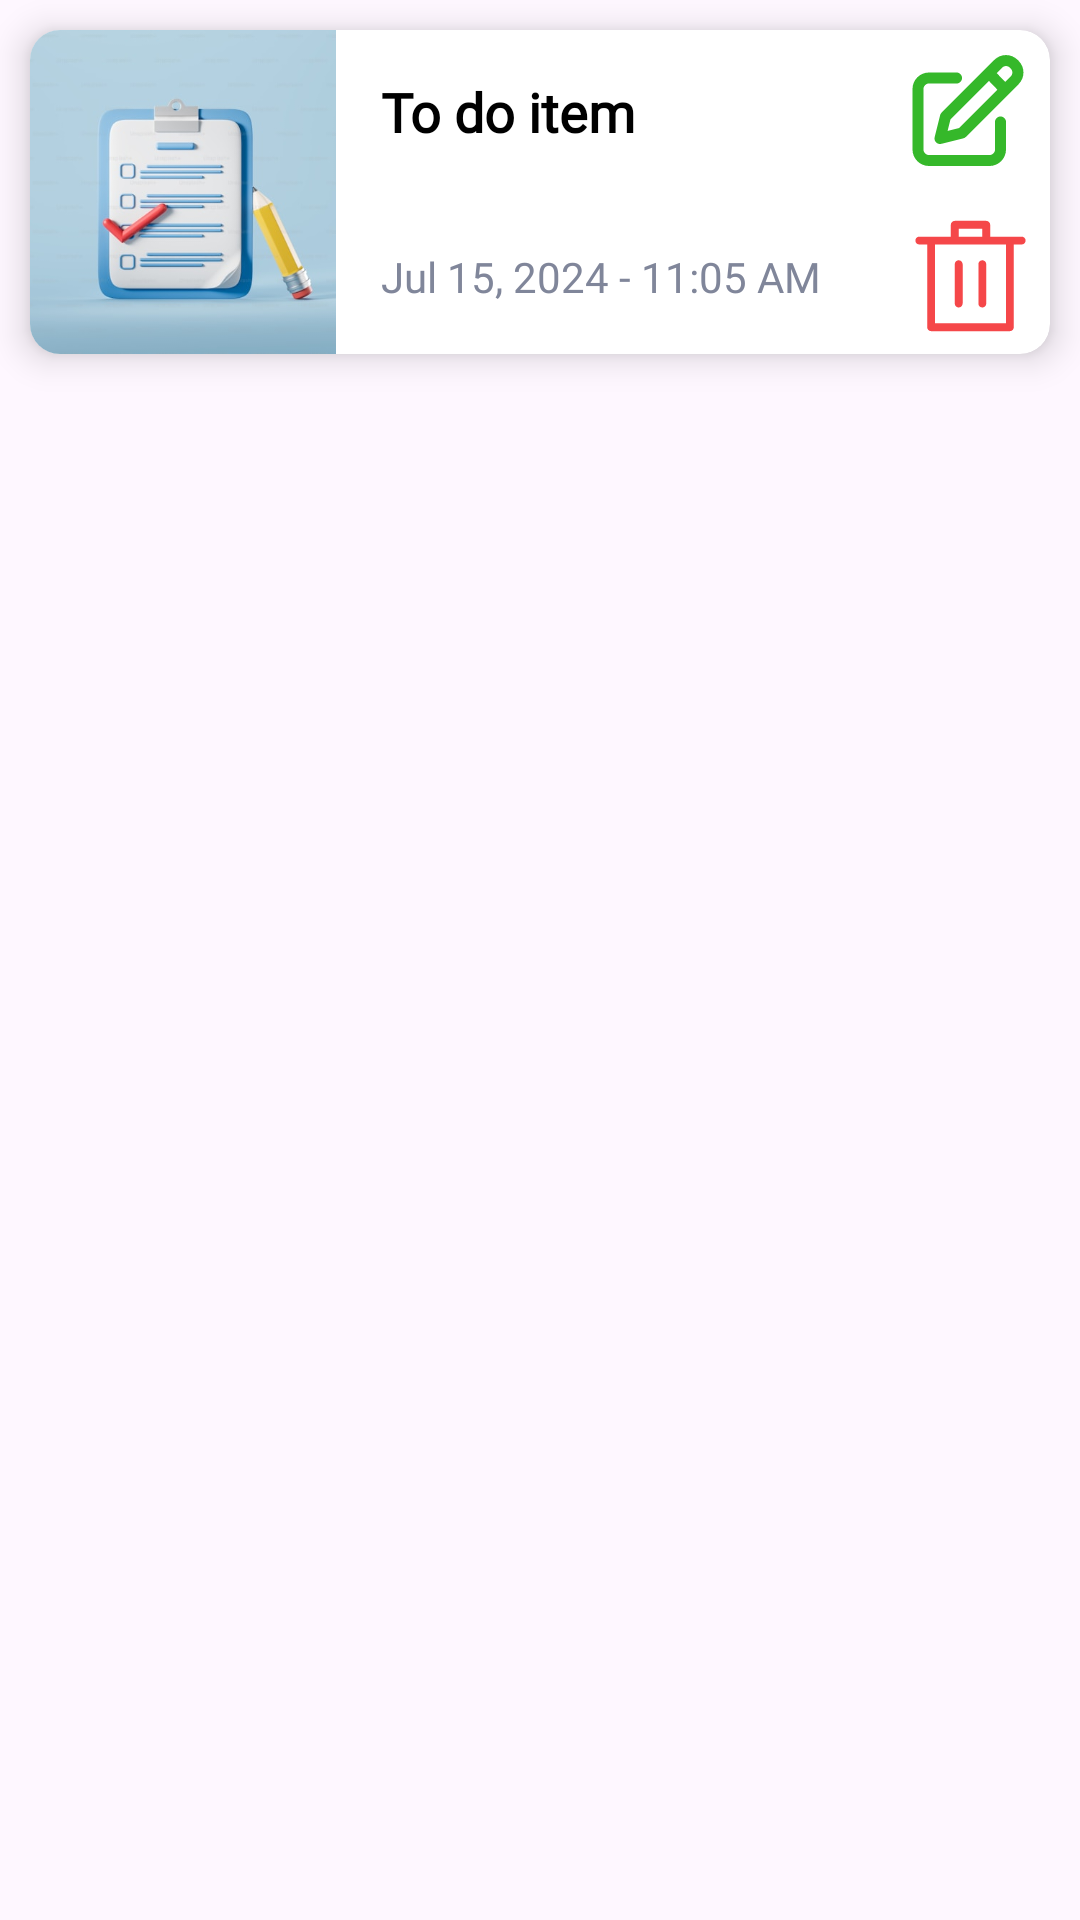

Where icons sit on this 1080x1920 app screen, as (x1, y1, x2, y2):
delete: (915, 220, 1026, 332)
write: (912, 55, 1024, 166)
